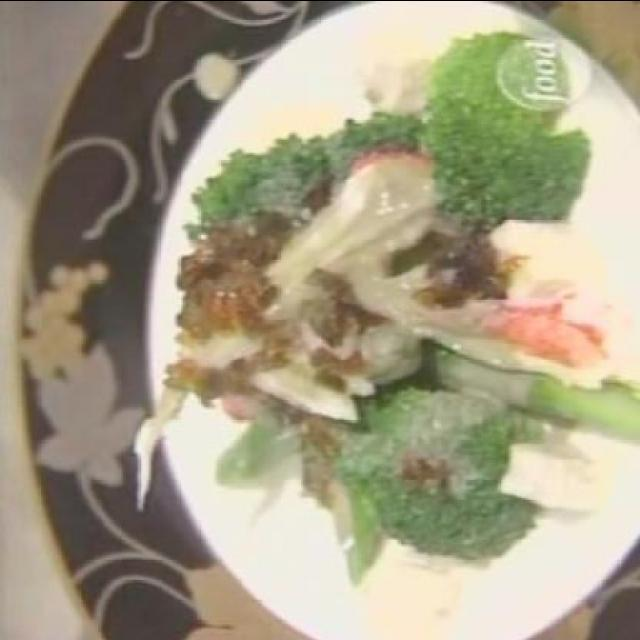Broccoli: (335, 380, 537, 568), (422, 32, 592, 230)
